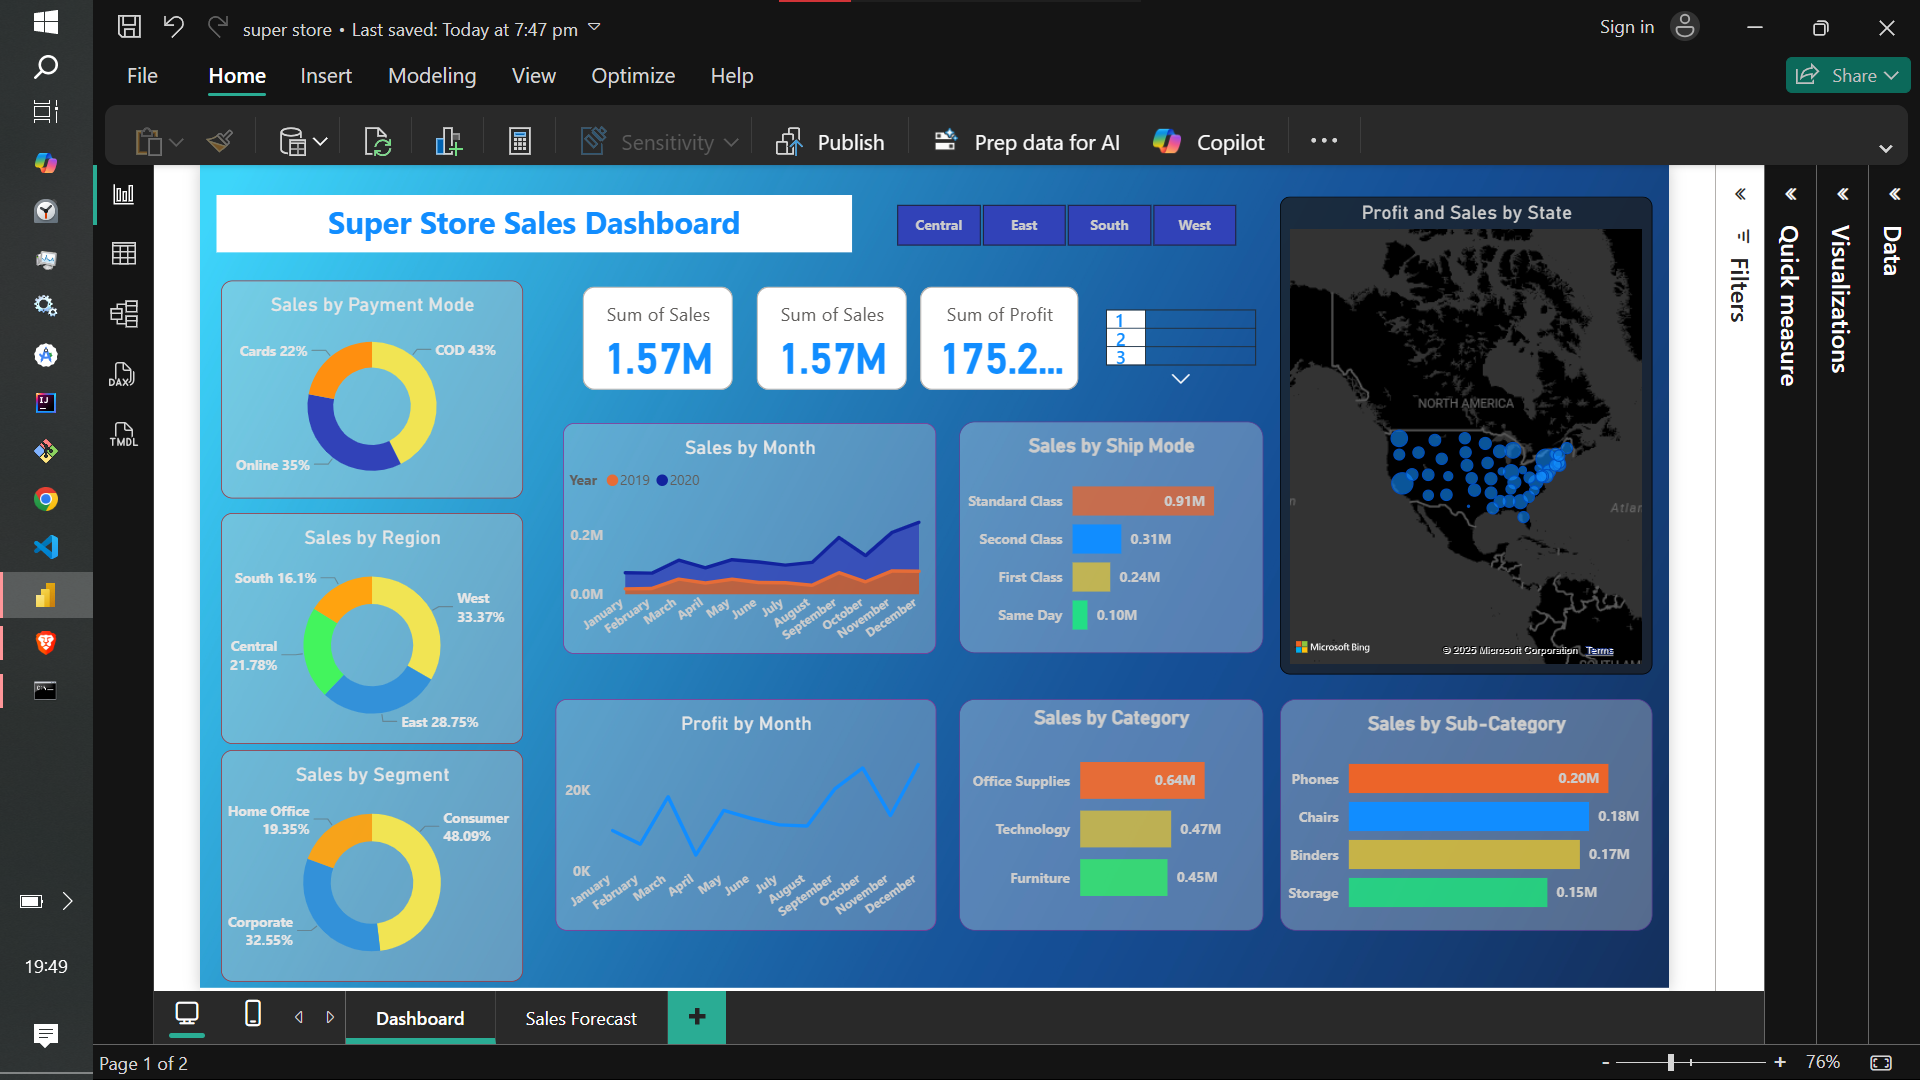

The dashboard page shown, as its layout file describes it:
{"tool":"powerbi","page":{"name":"Dashboard","canvas":[1280,720],"ordinal":0},"visuals":[{"type":"slicer","fields":{"Values":["SuperStore_Sales_Dataset.Region"]},"box":[581.3,27.4,345.4,49.6],"z":1000},{"type":"map","fields":{"Size":["Sum(SuperStore_Sales_Dataset.Profit)"],"Category":["SuperStore_Sales_Dataset.State"]},"box":[942.1,27.5,337.4,416],"z":2000},{"type":"donutChart","fields":{"Y":["Sum(SuperStore_Sales_Dataset.Sales)"],"Category":["SuperStore_Sales_Dataset.Payment Mode"]},"box":[18.8,101.1,263.3,201.7],"z":2001},{"type":"donutChart","fields":{"Category":["SuperStore_Sales_Dataset.Segment"],"Y":["Sum(SuperStore_Sales_Dataset.Sales)"]},"box":[18.8,509.5,263.3,201.7],"z":2003},{"type":"donutChart","fields":{"Y":["Sum(SuperStore_Sales_Dataset.Sales)"],"Category":["SuperStore_Sales_Dataset.Region"]},"box":[18.8,302.8,263.3,201],"z":2004},{"type":"cardVisual","fields":{"Data":["Sum(SuperStore_Sales_Dataset.Sales)"]},"box":[480.4,100.9,141.9,100.9],"z":2006},{"type":"cardVisual","fields":{"Data":["Sum(SuperStore_Sales_Dataset.Sales)"]},"box":[327.7,100.8,142,100.8],"z":2007},{"type":"cardVisual","fields":{"Rows":["SuperStore_Sales_Dataset.Ship Date.Variation.Date Hierarchy.Day"]},"box":[784.1,100.8,142,100.8],"z":2008},{"type":"cardVisual","fields":{"Data":["Sum(SuperStore_Sales_Dataset.Profit)"]},"box":[622.3,100.9,148.7,100.9],"z":2009},{"type":"stackedAreaChart","fields":{"Category":["SuperStore_Sales_Dataset.Order Date.Variation.Date Hierarchy.Month"],"Y":["Sum(SuperStore_Sales_Dataset.Sales)"]},"box":[330,224,331.7,201.7],"z":2010},{"type":"barChart","fields":{"Category":["SuperStore_Sales_Dataset.Ship Mode"],"Y":["Sum(SuperStore_Sales_Dataset.Sales)"]},"box":[661.7,224,265,201.7],"z":2011},{"type":"barChart","fields":{"Category":["SuperStore_Sales_Dataset.Category"],"Y":["Sum(SuperStore_Sales_Dataset.Sales)"]},"box":[661.7,465,265,201.7],"z":2012},{"type":"stackedAreaChart","fields":{"Category":["SuperStore_Sales_Dataset.Order Date.Variation.Date Hierarchy.Month"],"Y":["Sum(SuperStore_Sales_Dataset.Profit)"]},"box":[328.3,465,331.7,201.7],"z":2013},{"type":"barChart","fields":{"Category":["SuperStore_Sales_Dataset.Sub-Category"],"Y":["Sum(SuperStore_Sales_Dataset.Sales)"]},"box":[942.1,465,336.8,201.7],"z":2014},{"type":"textbox","box":[28.3,25.4,553.4,50.7],"z":2015}]}

Visuals, with their boxes on the page's 1280x720 design canvas (x1, y1, x2, y2). These are canvas units, not pixel positions in the 1920x1080 screenshot, which may show the page scaled, cropped or inside an application window:
slicer - SuperStore_Sales_Dataset.Region: rect(581, 27, 927, 77)
map - Sum(SuperStore_Sales_Dataset.Profit) x SuperStore_Sales_Dataset.State: rect(942, 28, 1280, 444)
donutChart - Sum(SuperStore_Sales_Dataset.Sales) x SuperStore_Sales_Dataset.Payment Mode: rect(19, 101, 282, 303)
donutChart - SuperStore_Sales_Dataset.Segment x Sum(SuperStore_Sales_Dataset.Sales): rect(19, 510, 282, 711)
donutChart - Sum(SuperStore_Sales_Dataset.Sales) x SuperStore_Sales_Dataset.Region: rect(19, 303, 282, 504)
cardVisual - Sum(SuperStore_Sales_Dataset.Sales): rect(480, 101, 622, 202)
cardVisual - Sum(SuperStore_Sales_Dataset.Sales): rect(328, 101, 470, 202)
cardVisual - SuperStore_Sales_Dataset.Ship Date.Variation.Date Hierarchy.Day: rect(784, 101, 926, 202)
cardVisual - Sum(SuperStore_Sales_Dataset.Profit): rect(622, 101, 771, 202)
stackedAreaChart - SuperStore_Sales_Dataset.Order Date.Variation.Date Hierarchy.Month x Sum(SuperStore_Sales_Dataset.Sales): rect(330, 224, 662, 426)
barChart - SuperStore_Sales_Dataset.Ship Mode x Sum(SuperStore_Sales_Dataset.Sales): rect(662, 224, 927, 426)
barChart - SuperStore_Sales_Dataset.Category x Sum(SuperStore_Sales_Dataset.Sales): rect(662, 465, 927, 667)
stackedAreaChart - SuperStore_Sales_Dataset.Order Date.Variation.Date Hierarchy.Month x Sum(SuperStore_Sales_Dataset.Profit): rect(328, 465, 660, 667)
barChart - SuperStore_Sales_Dataset.Sub-Category x Sum(SuperStore_Sales_Dataset.Sales): rect(942, 465, 1279, 667)
textbox: rect(28, 25, 582, 76)
